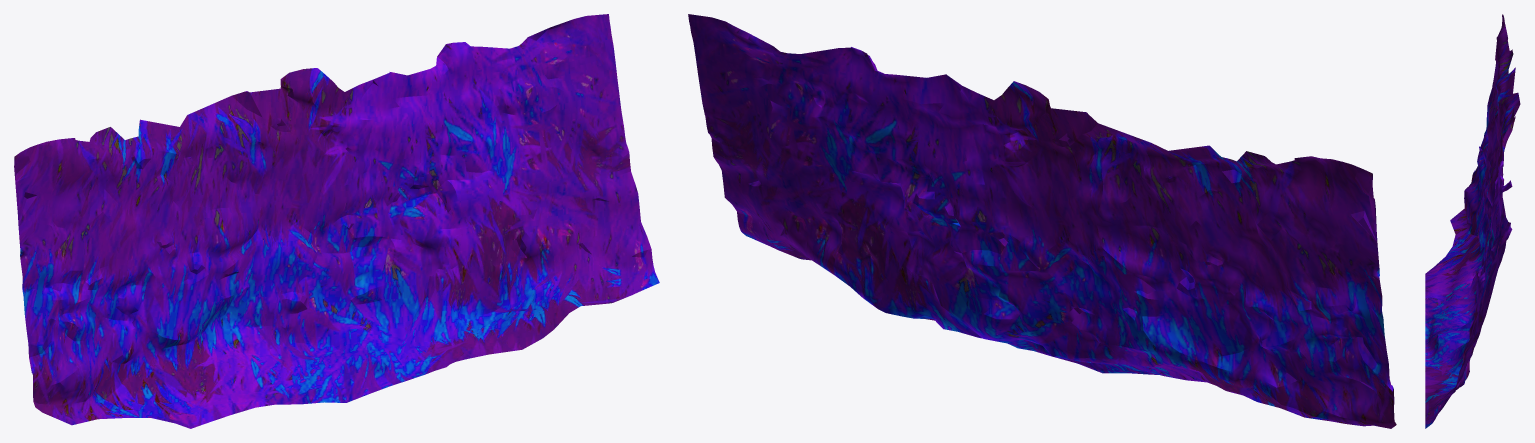
Rendered from wall.glb.
3 renders of one model, left to right at view 1: azimuth 30°, elevation 25°; view 2: azimuth 150°, elevation 25°; view 3: azimuth 270°, elevation 25°, orthographic. The views are drawn at different scales.
Visible parts, largest first — view 1: Object_2; view 2: Object_2; view 3: Object_2.
Boxes of the visible parts, box(x1,y1,x2,y2) form: Object_2: box(14, 14, 659, 428); Object_2: box(688, 14, 1396, 428); Object_2: box(1425, 14, 1520, 428).
Size of the model in its own units: 34.51 by 16.02 by 6.05.
Materials: 1 (1 with a texture image).
